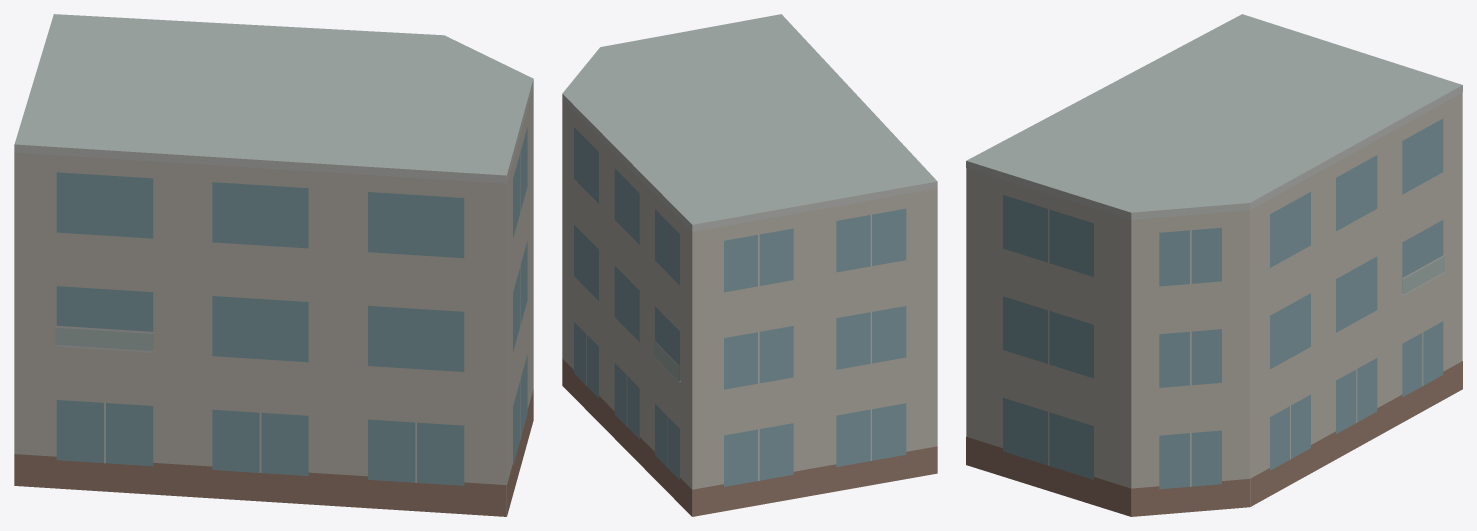
The model's file is survey-upis-32799627.glb.
3 views of the same model, side by side, from view 1: azimuth 30°, elevation 25°; view 2: azimuth 150°, elevation 25°; view 3: azimuth 270°, elevation 25° (orthographic). The views are drawn at different scales.
Visible parts, largest first — view 1: survey-upis-32799627.tmp; view 2: survey-upis-32799627.tmp; view 3: survey-upis-32799627.tmp.
Boxes of the visible parts, box(x1,y1,x2,y2) form: survey-upis-32799627.tmp: box(14, 14, 533, 516); survey-upis-32799627.tmp: box(562, 14, 937, 516); survey-upis-32799627.tmp: box(966, 14, 1462, 516).
Size of the model in its own units: 14.29 by 10.2 by 15.1.
